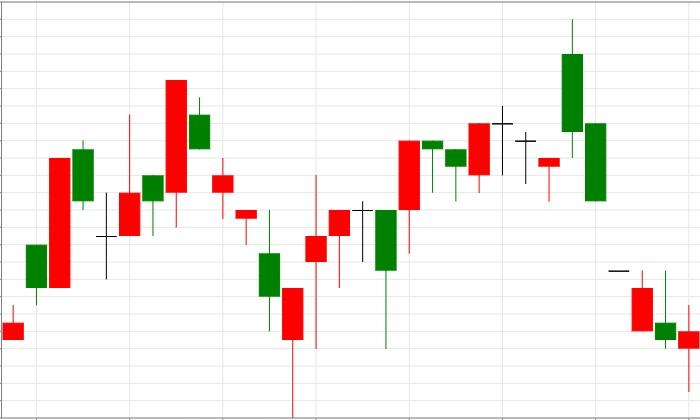hammer_rise: (188, 96, 303, 418)
